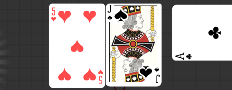4H: (51, 7, 58, 23)
5C: (106, 6, 114, 22)
AC: (174, 52, 194, 61)
